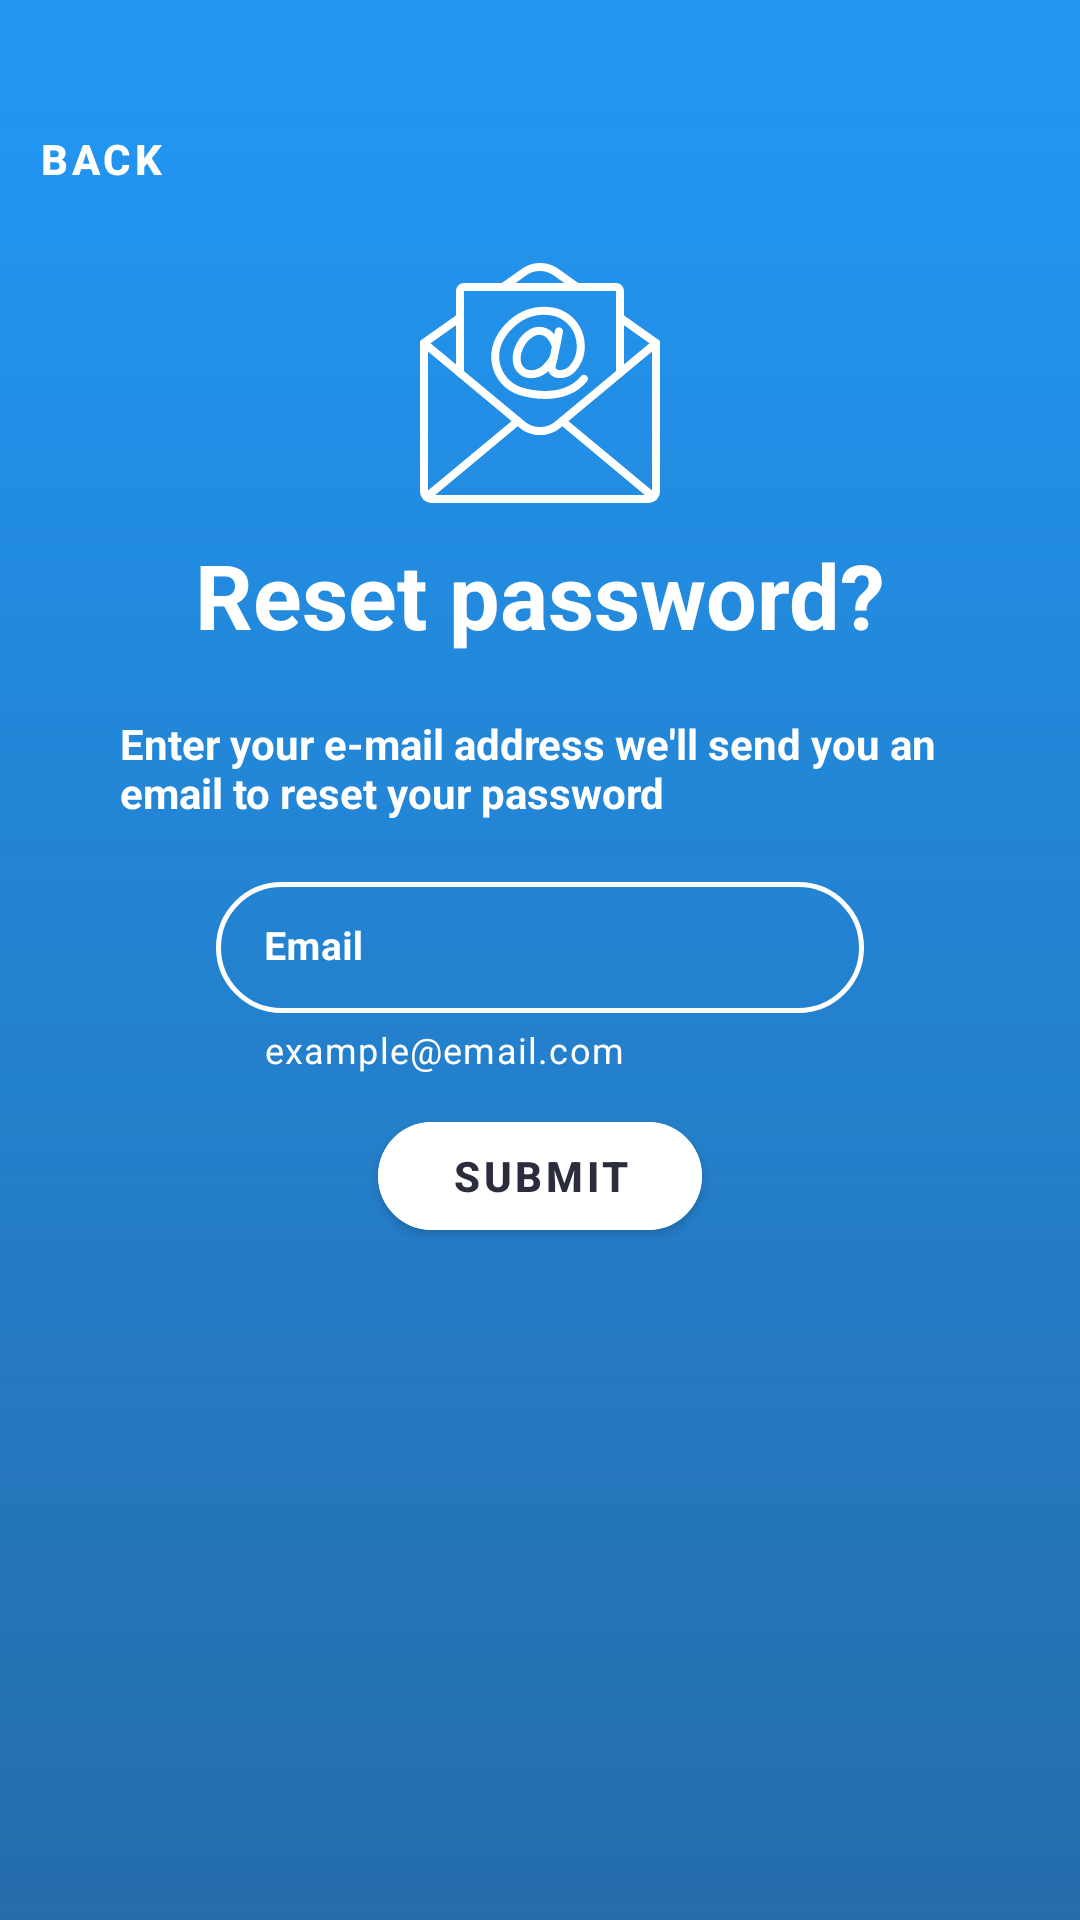

Point at icon controls on the screen. Image size 1080 x 1920, points as (x=x, y=y).
email: (x=540, y=383)
